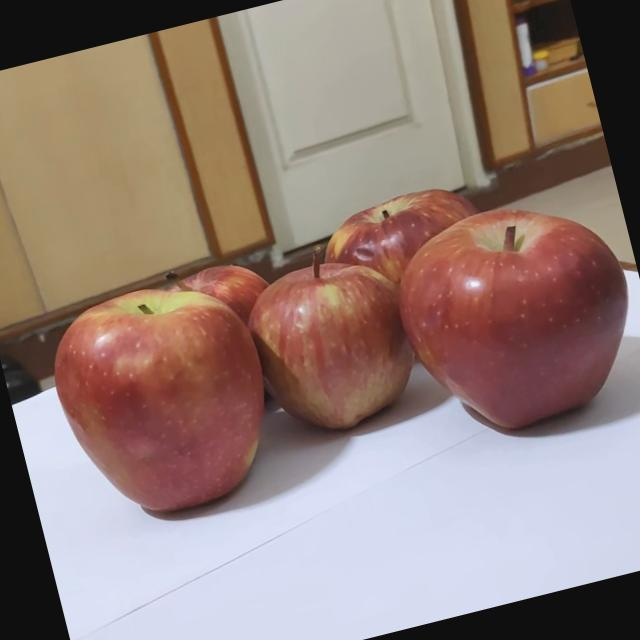apple: (382, 176, 640, 472), (318, 151, 552, 380), (50, 265, 276, 498), (230, 238, 432, 440), (148, 228, 318, 396)
